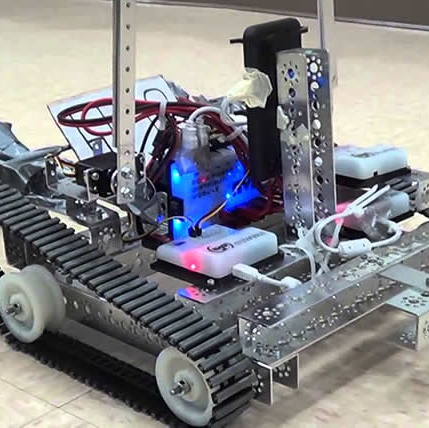robot: (0, 0, 429, 426)
